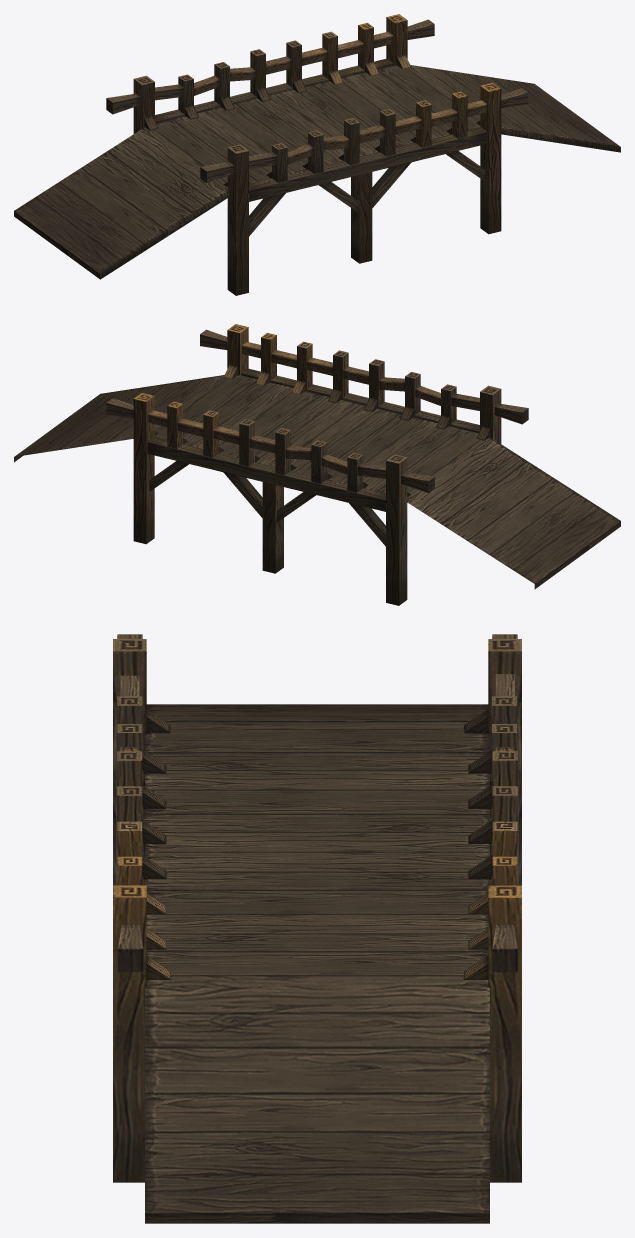
Rendered from Treasure_Bridge_01.FBX.
3 renders of one model, top to bottom at view 1: azimuth 30°, elevation 25°; view 2: azimuth 150°, elevation 25°; view 3: azimuth 270°, elevation 25°, orthographic. The views are drawn at different scales.
Parts seen in each view (by area): view 1: Treasure_Bridge_01_02, Treasure_Bridge_01_01; view 2: Treasure_Bridge_01_02, Treasure_Bridge_01_01; view 3: Treasure_Bridge_01_02, Treasure_Bridge_01_01.
Boxes of the visible parts, box(x1,y1,x2,y2) form: Treasure_Bridge_01_02: box(14, 65, 620, 279); Treasure_Bridge_01_01: box(106, 14, 528, 295); Treasure_Bridge_01_02: box(14, 375, 620, 589); Treasure_Bridge_01_01: box(106, 324, 528, 605); Treasure_Bridge_01_02: box(145, 704, 489, 1223); Treasure_Bridge_01_01: box(113, 634, 521, 1182).
Size of the model in its own units: 16.02 by 4.18 by 5.45.
